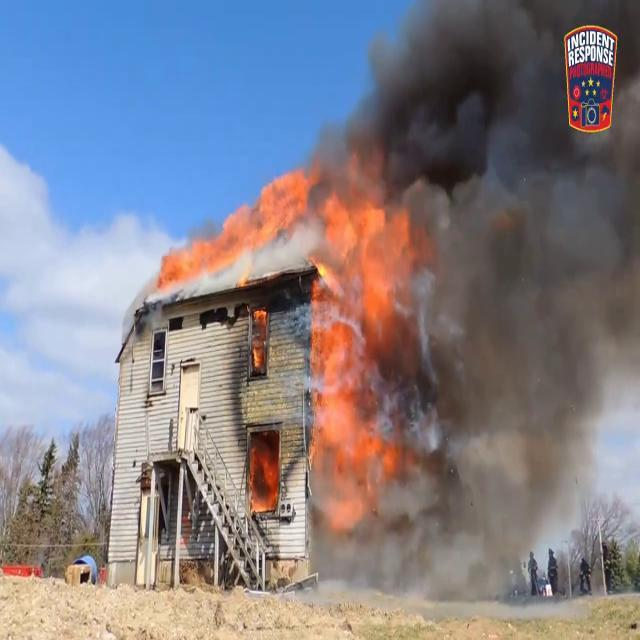Fire: (296, 172, 424, 510), (154, 166, 314, 292)
Smoke: (355, 1, 640, 558)
